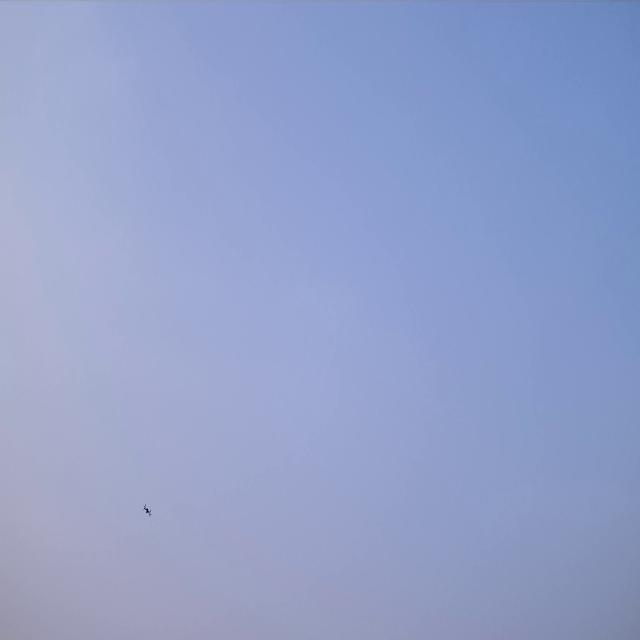UAV: (142, 503, 152, 517)
